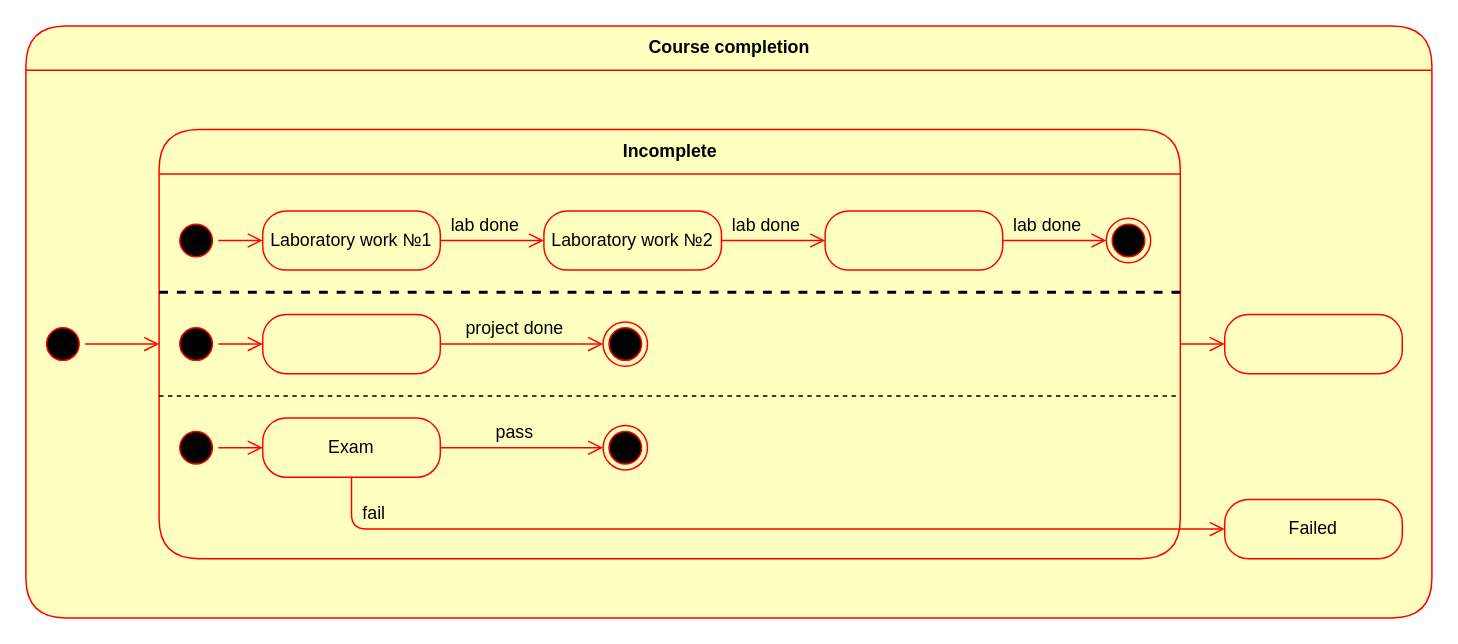
Image size: 1458x644. Some labels were removed from this diagram. Each missing label, with the box of its shape:
Laboratory work №3: (824, 209, 1003, 270)
Passed: (1223, 313, 1402, 374)
Project: (261, 313, 440, 374)
